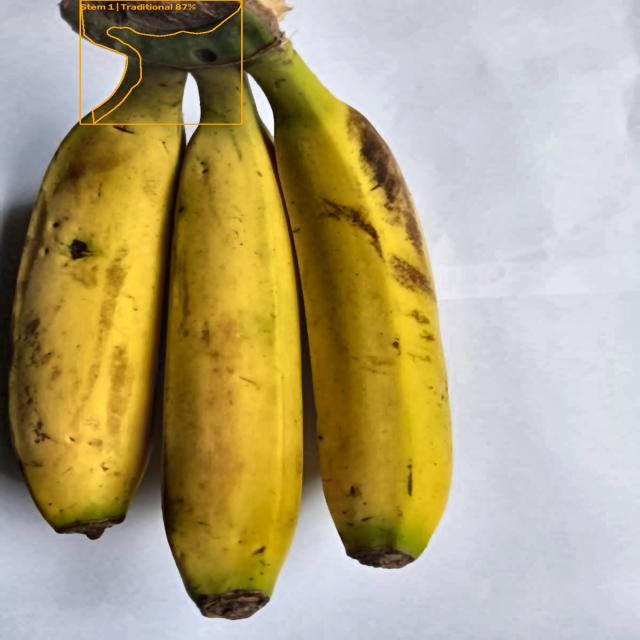Fruit-Stem-Detection: (59, 0, 342, 144)
